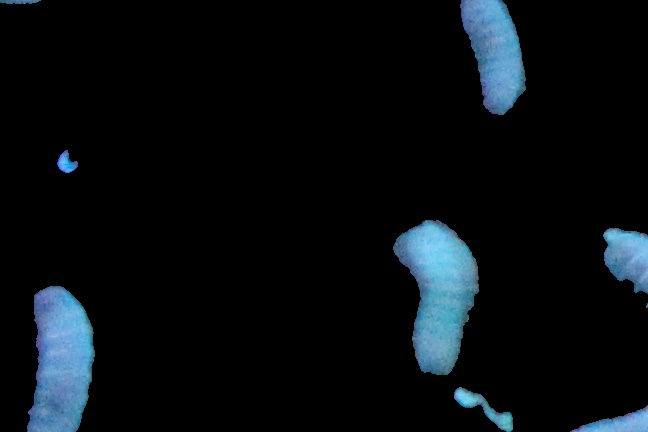larvae: (393, 218, 482, 374), (27, 287, 97, 432), (448, 1, 528, 119)
